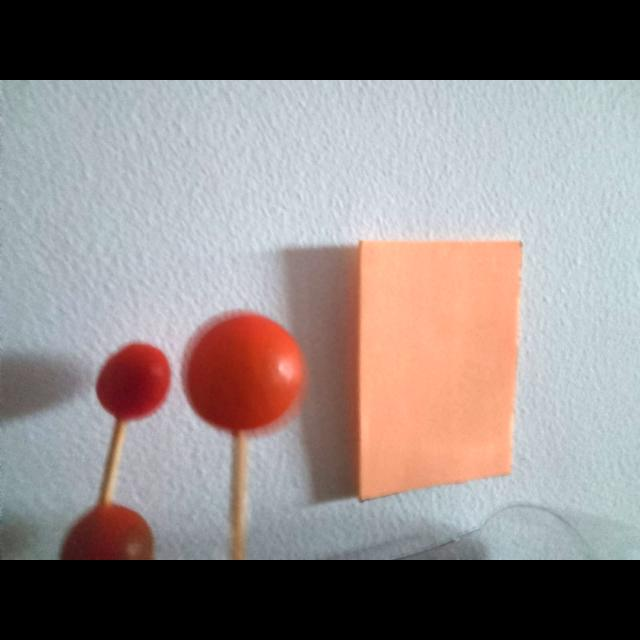card: (357, 241, 522, 499)
fully_grown: (182, 311, 305, 560), (96, 343, 171, 421), (61, 504, 154, 560)
